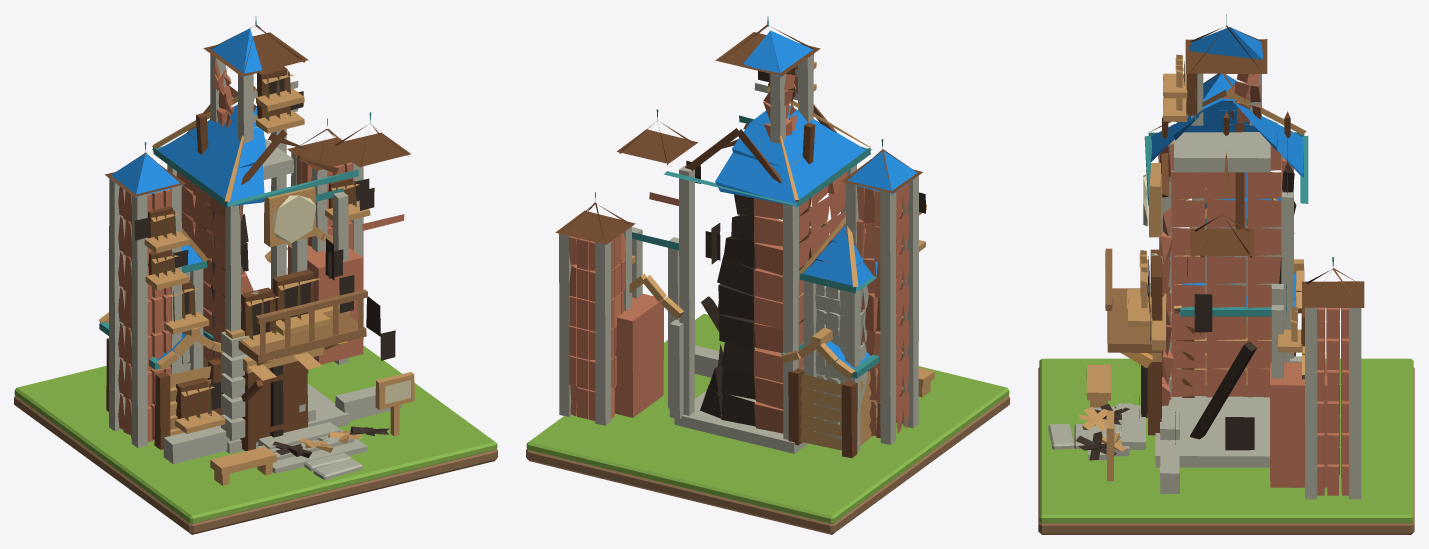
The model's file is town_hall_l12_damaged_LOD2.glb.
3 views of the same model, side by side, from view 1: azimuth 30°, elevation 25°; view 2: azimuth 150°, elevation 25°; view 3: azimuth 270°, elevation 25° (orthographic). The views are drawn at different scales.
Visible parts, largest first — view 1: town_hall_l12_damaged_foundation.001, town_hall_l12_damaged_grass_tile.001, town_hall_l12_damaged_earth_tile.001, town_hall_l12_damaged_path_stone.005; view 2: town_hall_l12_damaged_foundation.001, town_hall_l12_damaged_grass_tile.001, town_hall_l12_damaged_earth_tile.001; view 3: town_hall_l12_damaged_foundation.001, town_hall_l12_damaged_grass_tile.001, town_hall_l12_damaged_earth_tile.001, town_hall_l12_damaged_path_stone.005.
Boxes of the visible parts, x1,y1,x2,y2 form: town_hall_l12_damaged_foundation.001: (99,16,414,485); town_hall_l12_damaged_grass_tile.001: (14,345,497,523); town_hall_l12_damaged_earth_tile.001: (14,395,497,534); town_hall_l12_damaged_path_stone.005: (313,458,362,479); town_hall_l12_damaged_foundation.001: (555,16,934,458); town_hall_l12_damaged_grass_tile.001: (526,313,1009,523); town_hall_l12_damaged_earth_tile.001: (526,395,1009,534); town_hall_l12_damaged_foundation.001: (1075,14,1364,499); town_hall_l12_damaged_grass_tile.001: (1039,358,1413,523); town_hall_l12_damaged_earth_tile.001: (1038,367,1414,534); town_hall_l12_damaged_path_stone.005: (1048,423,1074,449).
Bounding box in the file's own units: 3.6 × 4.67 × 3.6.
